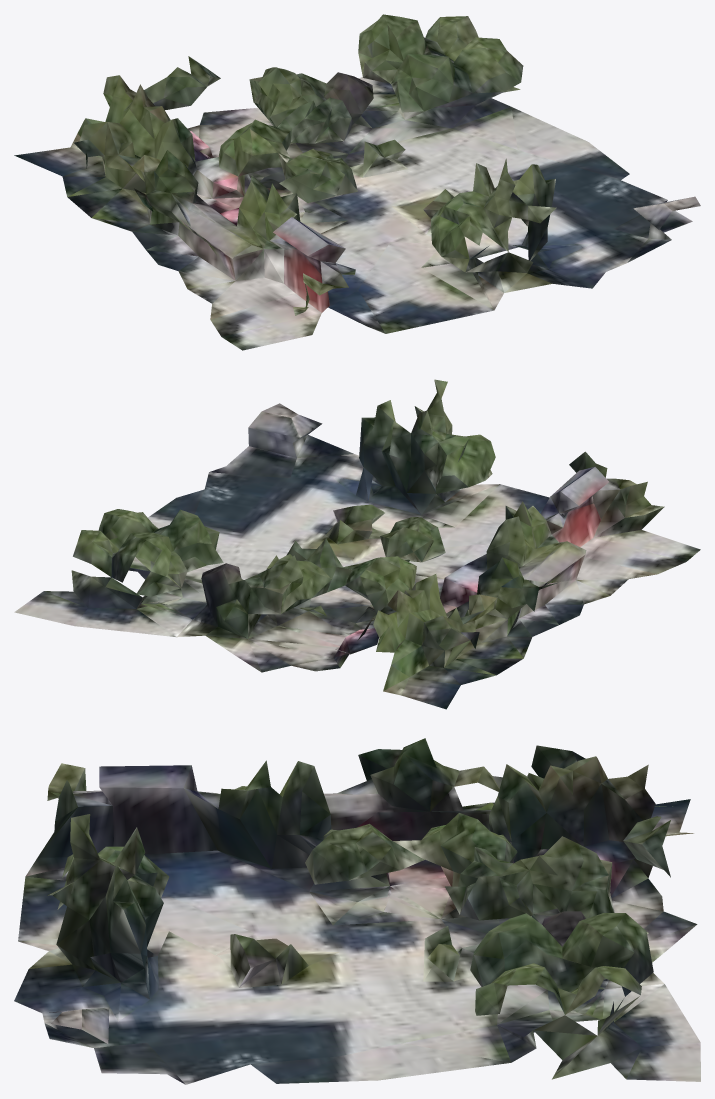
The model's file is Tile_+005_+006_L17_00.glb.
The picture shows the model from 3 angles, top to bottom: view 1: azimuth 30°, elevation 25°; view 2: azimuth 150°, elevation 25°; view 3: azimuth 270°, elevation 25°; orthographic projection. The views are drawn at different scales.
Visible parts, largest first — view 1: rtc; view 2: rtc; view 3: rtc.
Part boxes in pixels (box(x1,y1,x2,y2)): rtc: box(14, 14, 700, 350); rtc: box(14, 379, 700, 709); rtc: box(14, 738, 700, 1084).
Size of the model in its own units: 60.04 by 14.74 by 59.92.
Materials: 1 (1 with a texture image).
